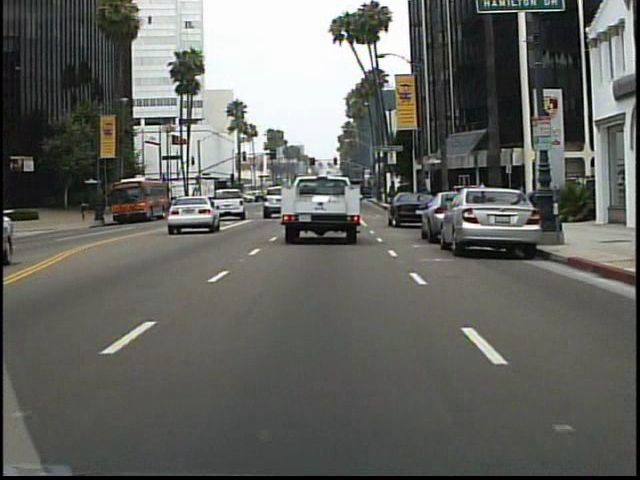person: (475, 179, 491, 219), (79, 196, 90, 224)
